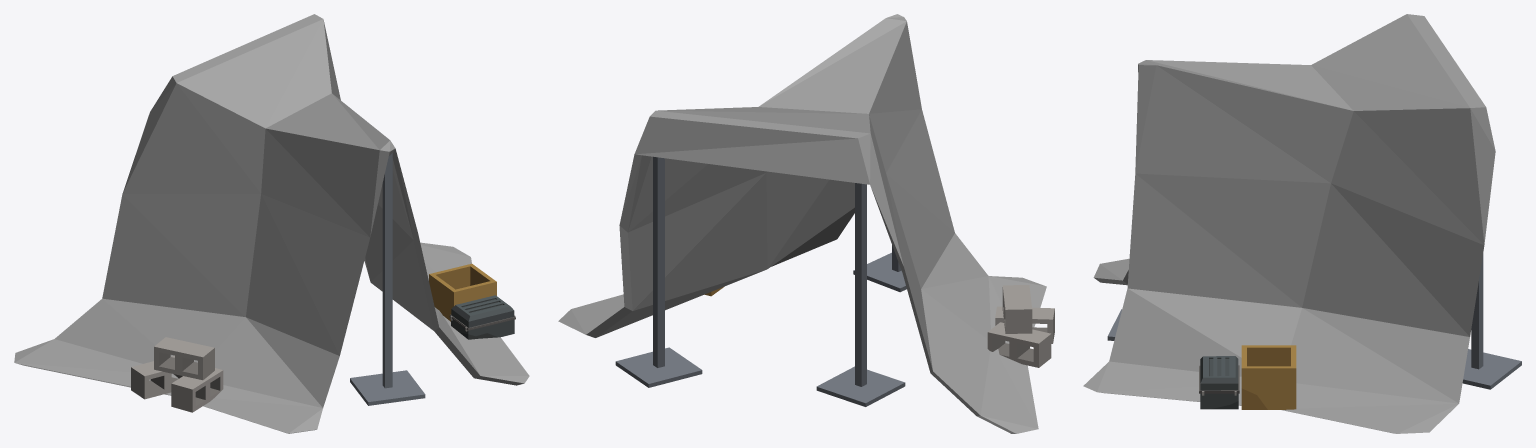
The model's file is AI_Prop_Makeshift_Tent_02.fbx.
3 renders of one model, left to right at view 1: azimuth 30°, elevation 25°; view 2: azimuth 150°, elevation 25°; view 3: azimuth 270°, elevation 25°, orthographic. The views are drawn at different scales.
Visible parts, largest first — view 1: AI_Prop_Makeshift_Tent_02; view 2: AI_Prop_Makeshift_Tent_02; view 3: AI_Prop_Makeshift_Tent_02.
Boxes of the visible parts, <box> form: AI_Prop_Makeshift_Tent_02: <box>14,14,529,433</box>; AI_Prop_Makeshift_Tent_02: <box>558,14,1054,433</box>; AI_Prop_Makeshift_Tent_02: <box>1083,14,1521,433</box>.
Bounding box in the file's own units: 7.04 × 3.68 × 5.4.
